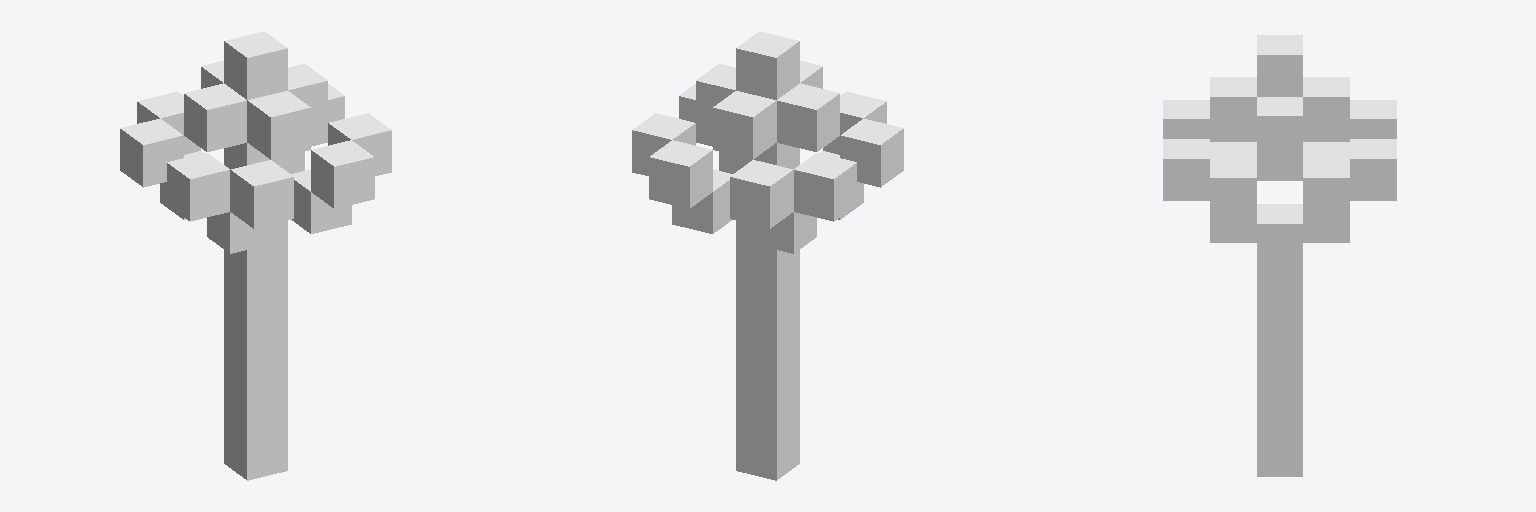
File: MageStaff.obj
3 renders of one model, left to right at view 1: azimuth 30°, elevation 25°; view 2: azimuth 150°, elevation 25°; view 3: azimuth 270°, elevation 25°, orthographic.
Size of the model in its own units: 5 by 10 by 5.